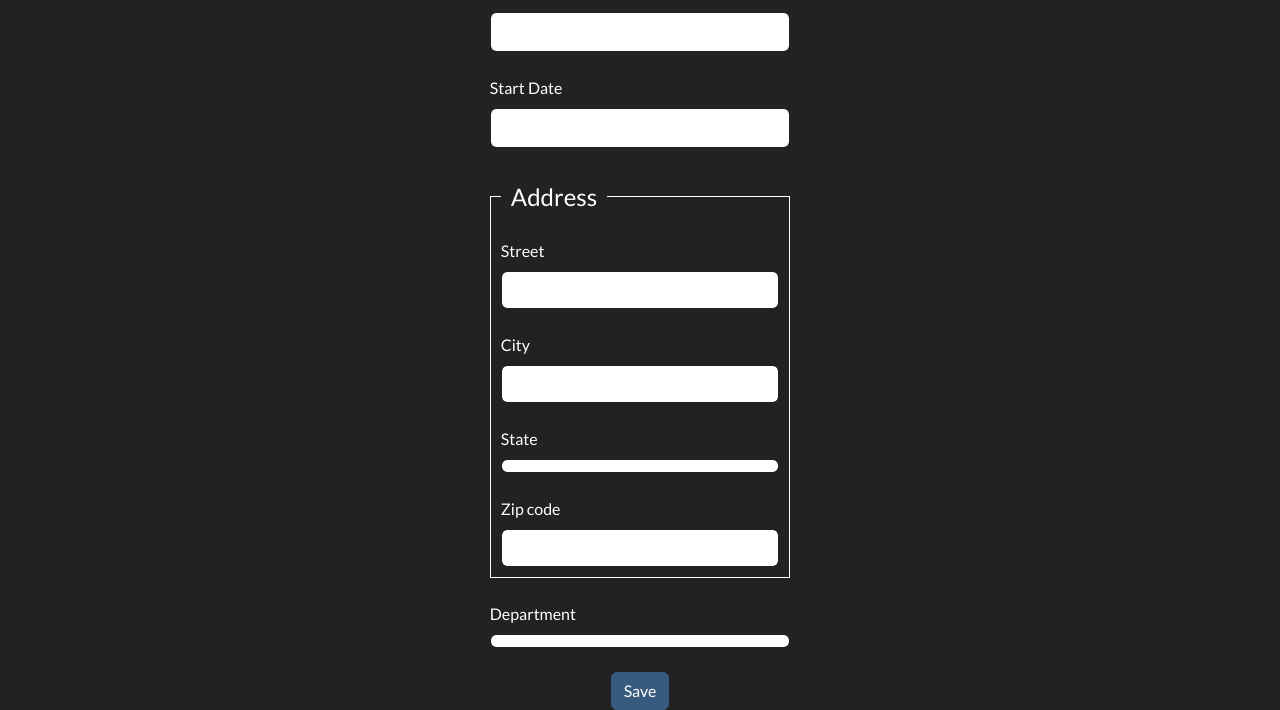
Test case: Given user is on the home page › the modal should be rendered when the save button is clicked and removed when close button is clicked
This screenshot has width=1280, height=710.
(page scrolled)
Click the button with test id "saveForm".
click(640, 691)  # box [611,672,669,709]
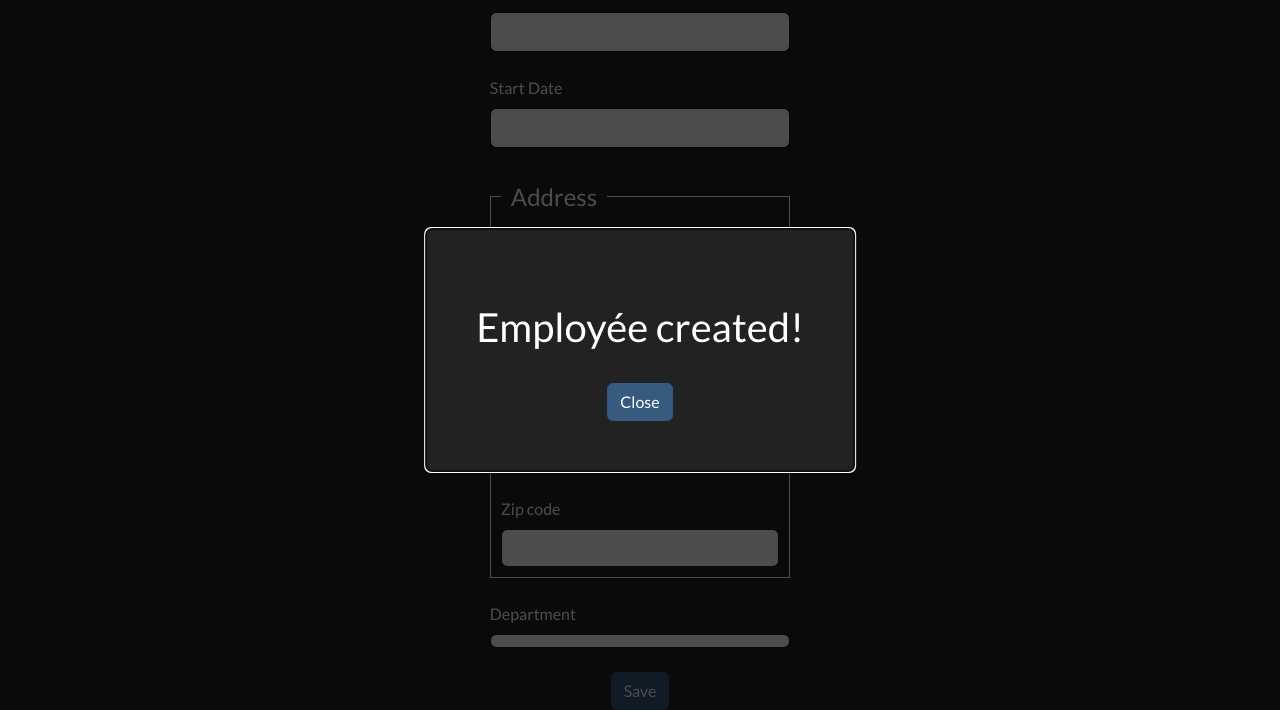
Expected: the button with test id "modal" is shown, [476,303,804,421]
Click the button "Close".
click(640, 402)  # box [607,383,673,421]
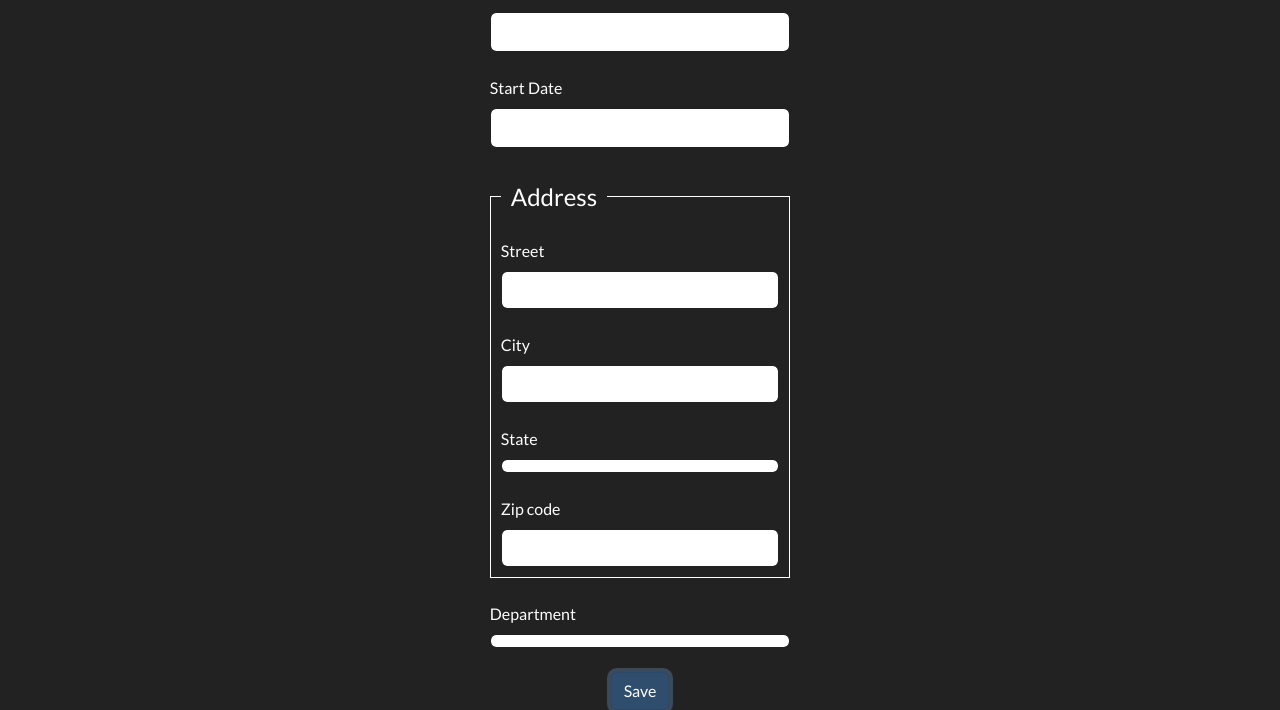
Expected: the button with test id "modal" is gone
